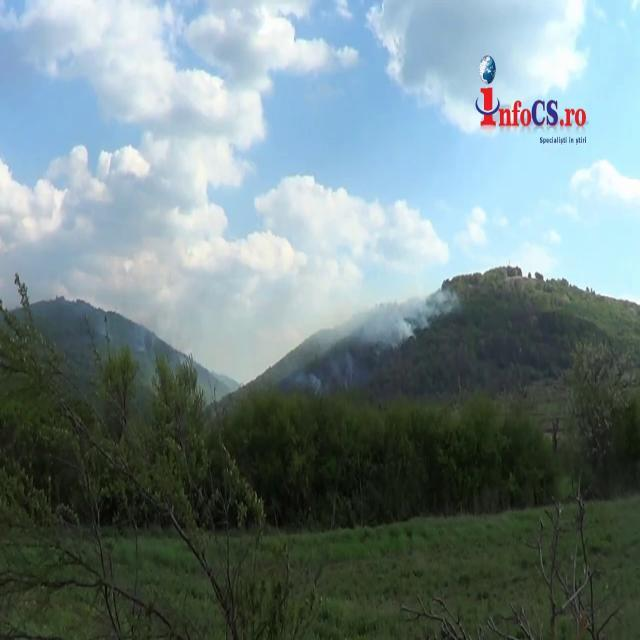Smoke: (420, 268, 468, 323), (392, 304, 416, 346)
